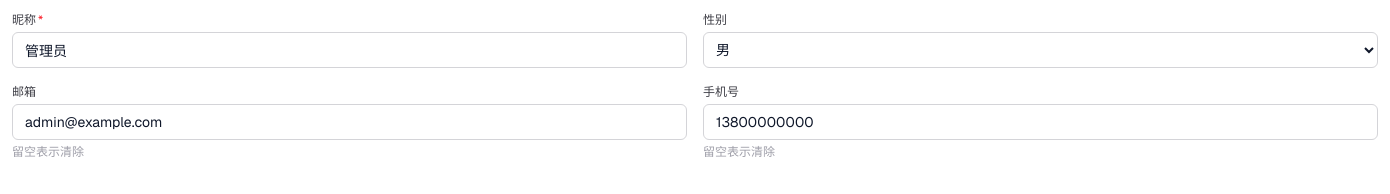
Scenario: ProfileBasicInfoForm › 昵称为空时阻止提交
The image size is (1390, 194).
Clear the field showing "管理员" below "昵称": (350, 50) 12,32 -> 687,68
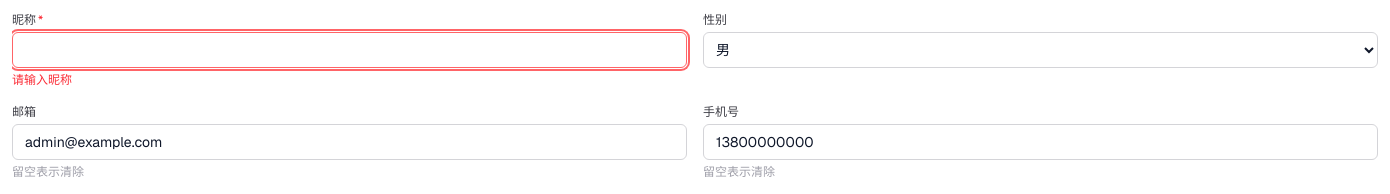
Now the text "请输入昵称" is shown, box 12,72 -> 72,88
